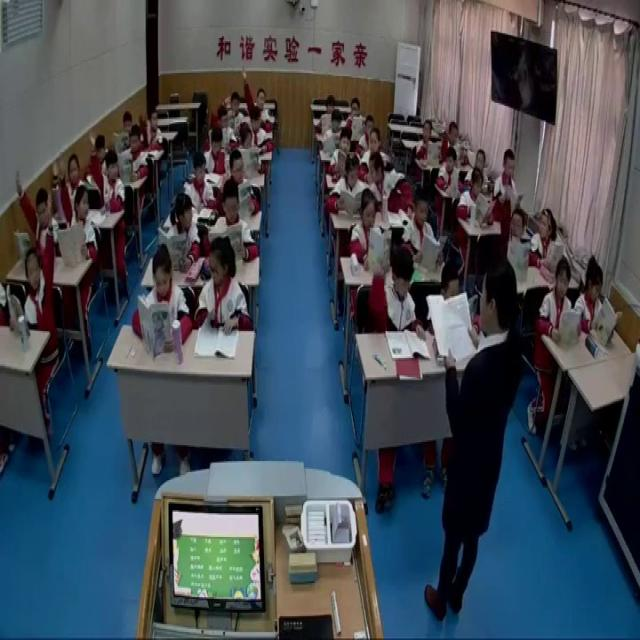distracted: (192, 237, 252, 336), (162, 190, 206, 264), (368, 148, 412, 212), (530, 205, 565, 270)
focused: (132, 244, 189, 348), (208, 179, 258, 275), (402, 185, 441, 276), (224, 138, 264, 218), (540, 254, 577, 338), (350, 186, 384, 268), (578, 256, 611, 336), (328, 157, 363, 215), (492, 153, 524, 216), (361, 125, 395, 182), (460, 165, 492, 225), (184, 152, 214, 208), (436, 147, 466, 203), (208, 100, 237, 154), (122, 124, 148, 183), (203, 126, 230, 179), (243, 112, 274, 156), (413, 118, 439, 170), (330, 132, 357, 182), (141, 107, 166, 156), (472, 139, 494, 189), (320, 105, 342, 149), (358, 111, 378, 155), (92, 130, 112, 173), (118, 105, 136, 151), (346, 95, 366, 136), (318, 94, 337, 132)
raising_hand: (367, 234, 421, 336), (22, 194, 56, 336), (59, 158, 97, 261), (16, 167, 58, 259), (90, 130, 128, 213), (501, 176, 532, 271), (241, 66, 276, 132), (50, 154, 86, 212), (441, 114, 461, 164)
